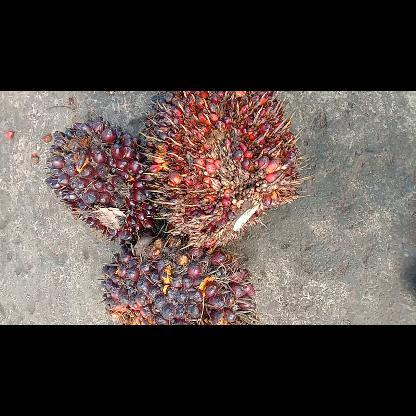Kurang masak: (43, 117, 158, 242), (101, 240, 257, 324)
TBS masak: (140, 91, 306, 247)
